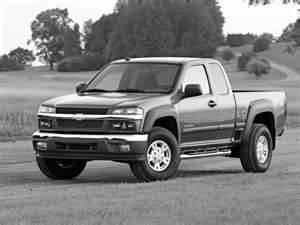car: (32, 58, 288, 183)
